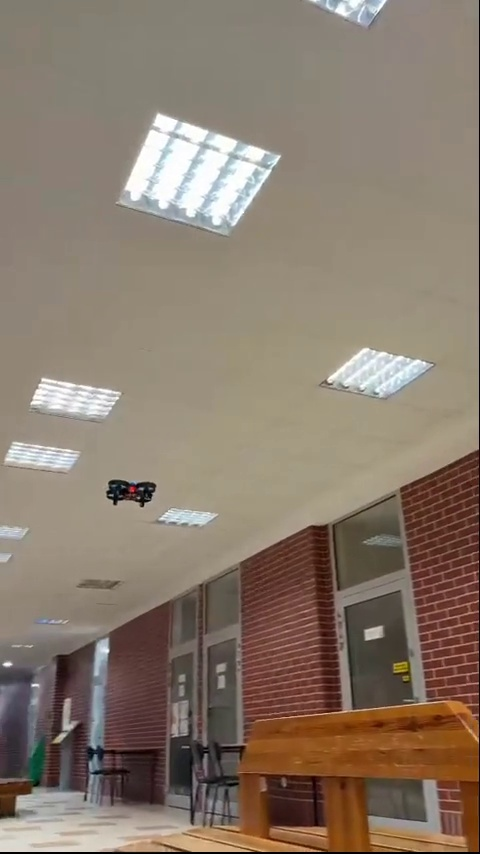drone: (99, 474, 157, 504)
